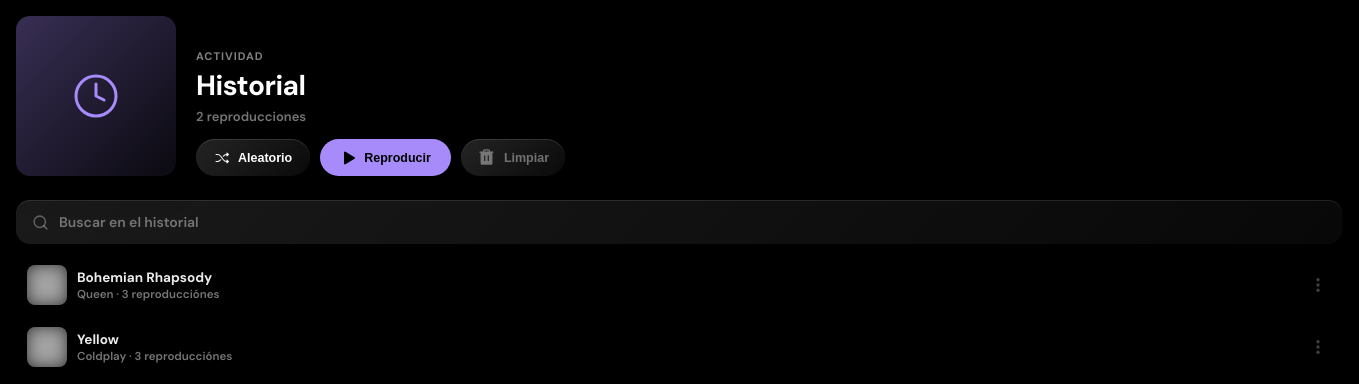
Scenario: HistoryView — buscador local › filtra el historial mientras se escribe
The image size is (1359, 384).
Type "queen" into the field with placeholder "Buscar en el historial" at (692, 222), box [59, 200, 1326, 244]
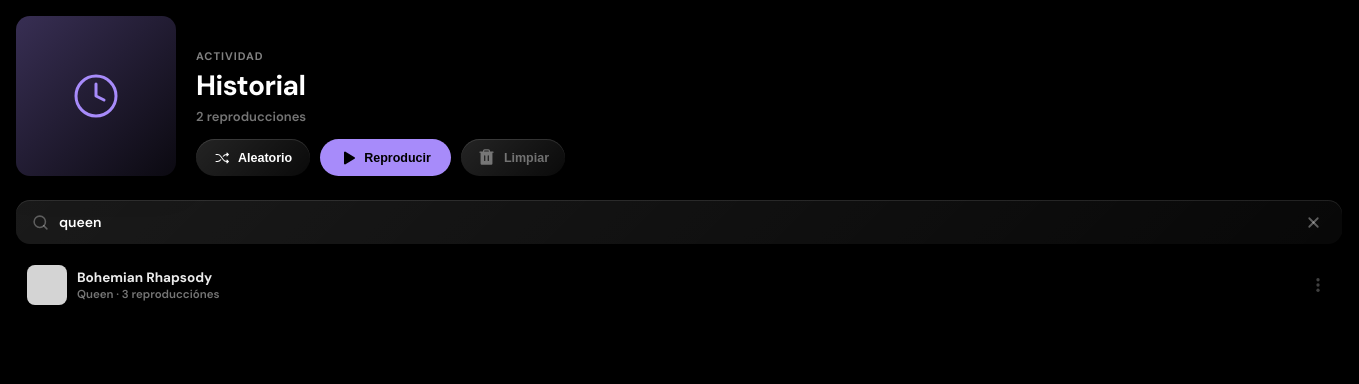
Check: the text "Bohemian Rhapsody" is shown, box [77, 268, 212, 286]
Check: the text "Yellow" is gone
